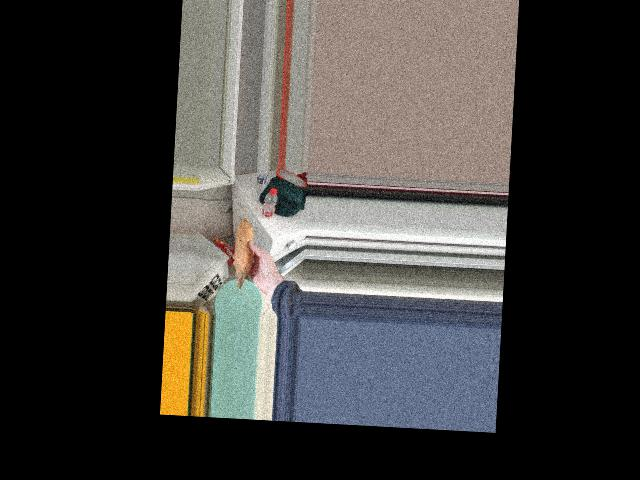sweet_potato: (234, 220, 253, 281)
